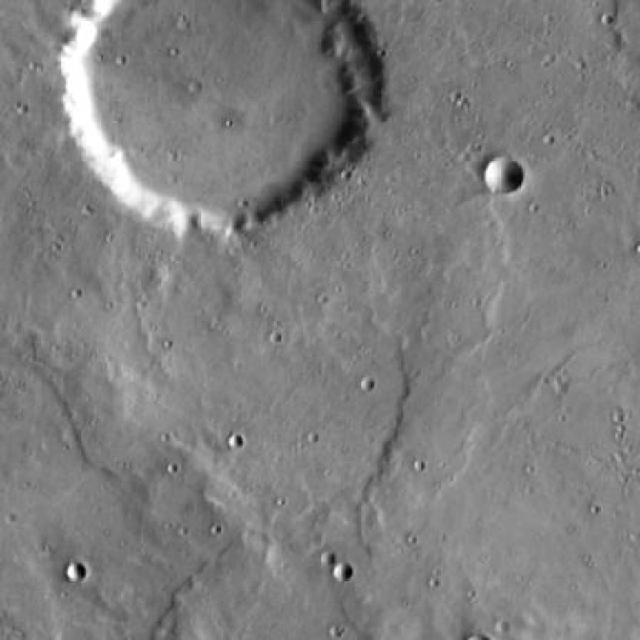crater: (67, 0, 387, 237), (488, 156, 524, 192), (331, 562, 351, 584), (67, 562, 84, 578)
